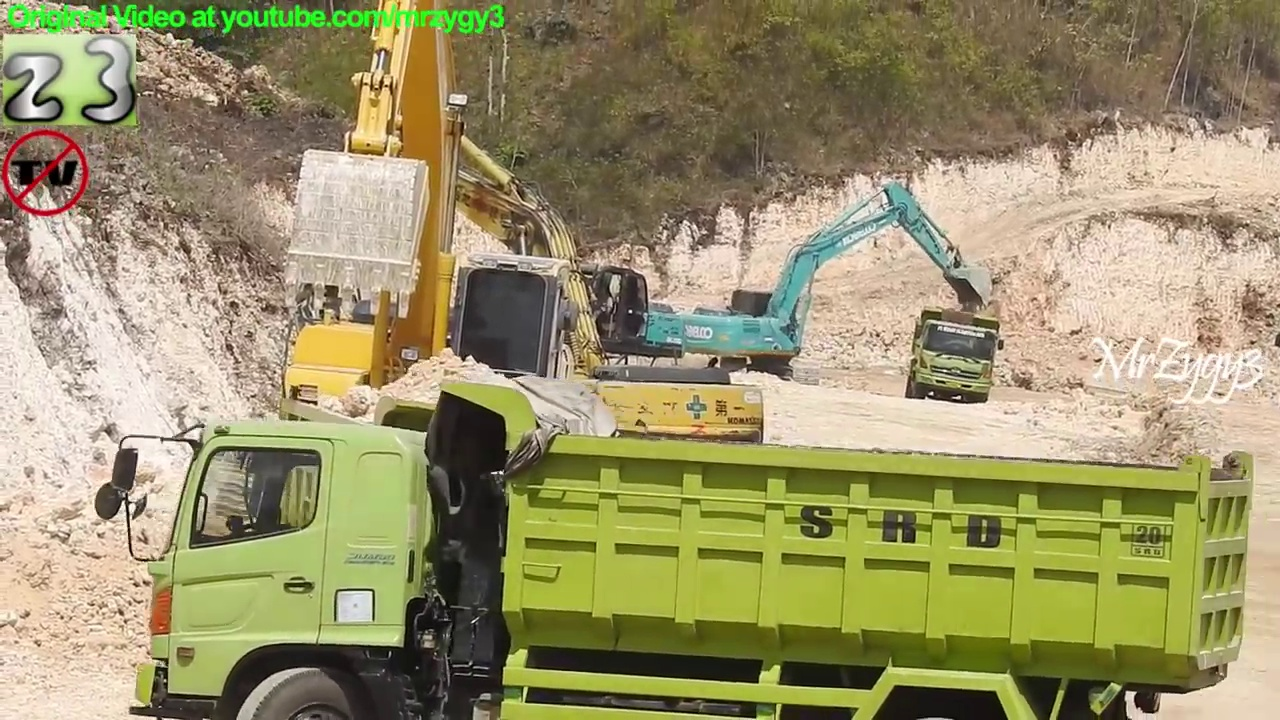excavator: (257, 2, 679, 509), (302, 99, 774, 509), (384, 159, 696, 402), (679, 178, 989, 393)
truck: (89, 372, 1258, 720), (902, 307, 1009, 406)
